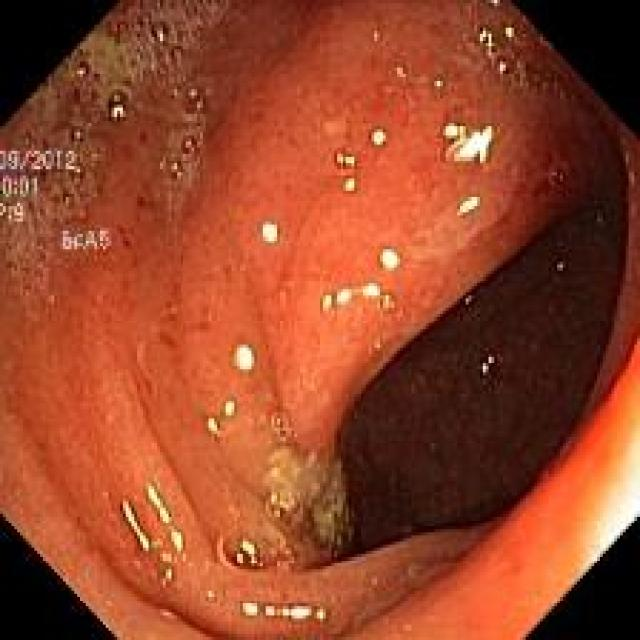Polyps: (411, 163, 519, 259)
